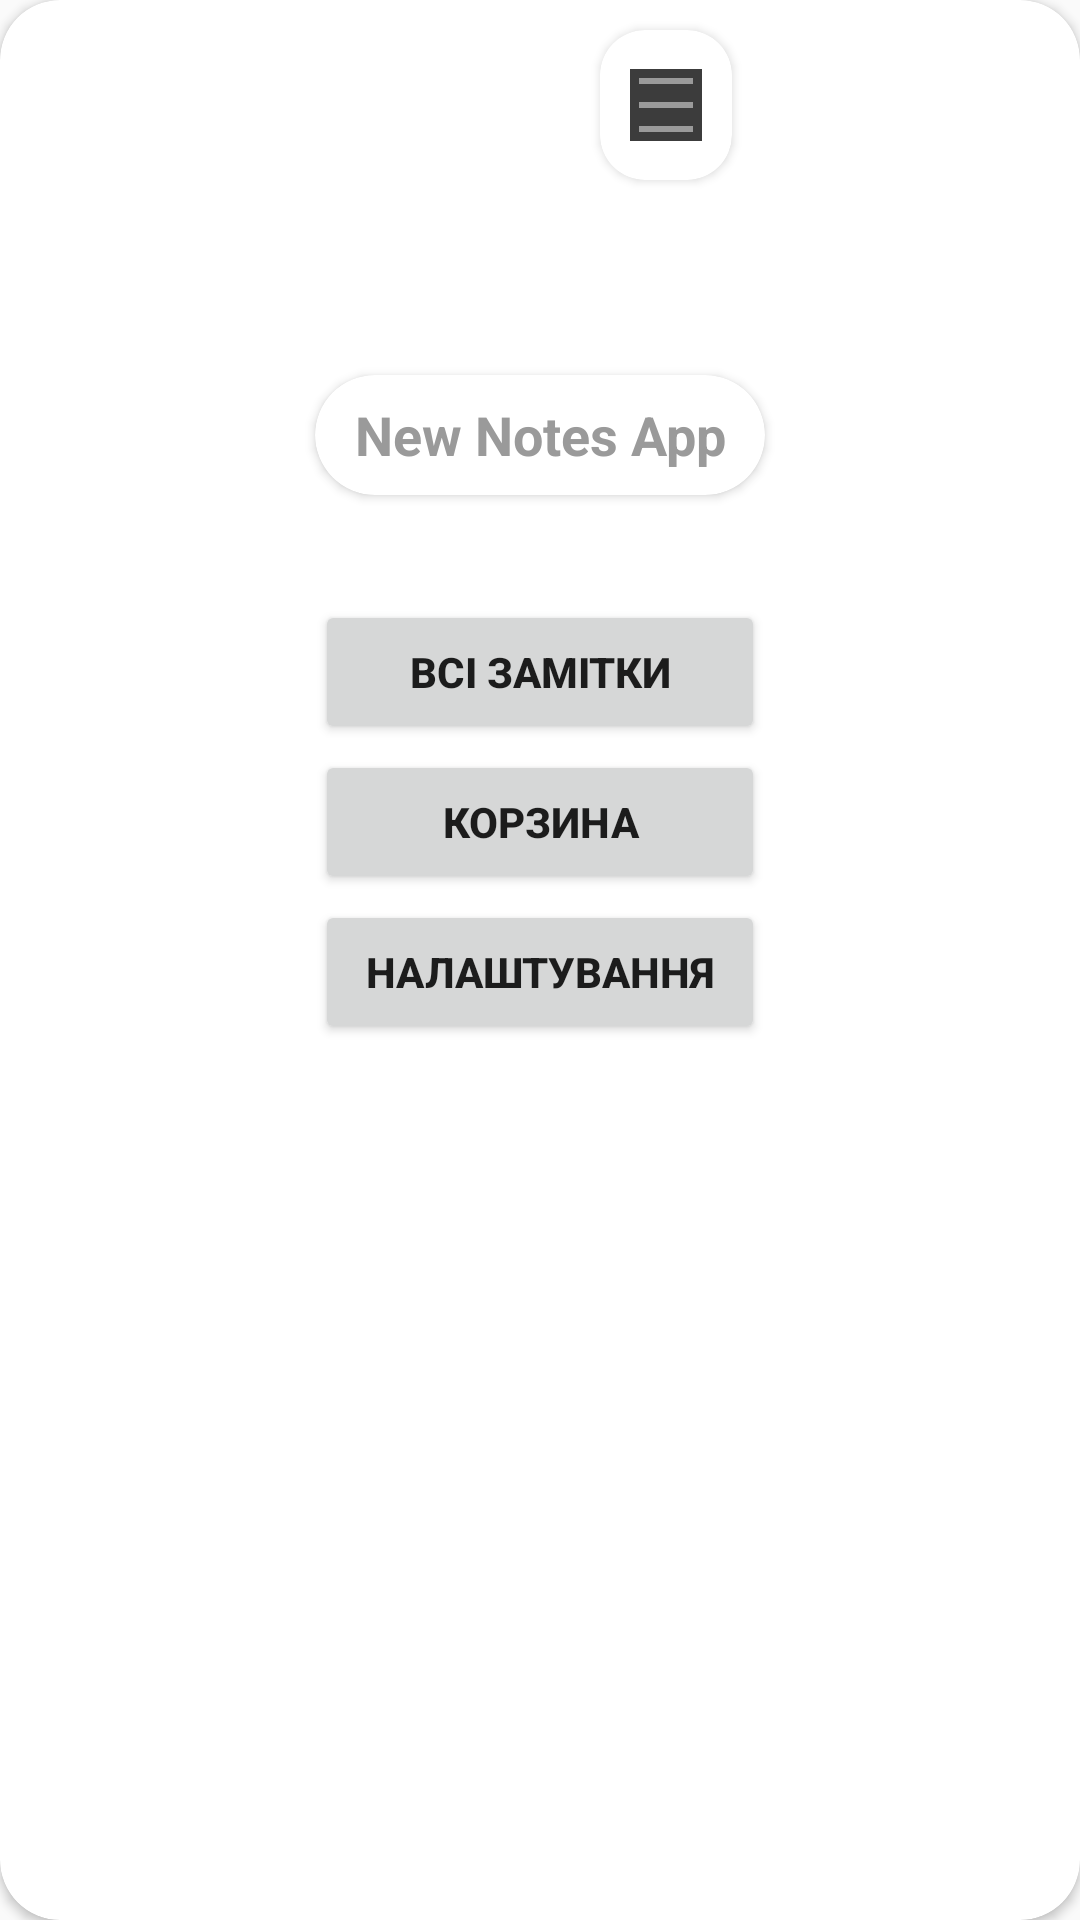

Icons on this 1080px×1920px Android screen, each with its box as (x1, y1, x2, y2):
list menu: (630, 69, 702, 141)
